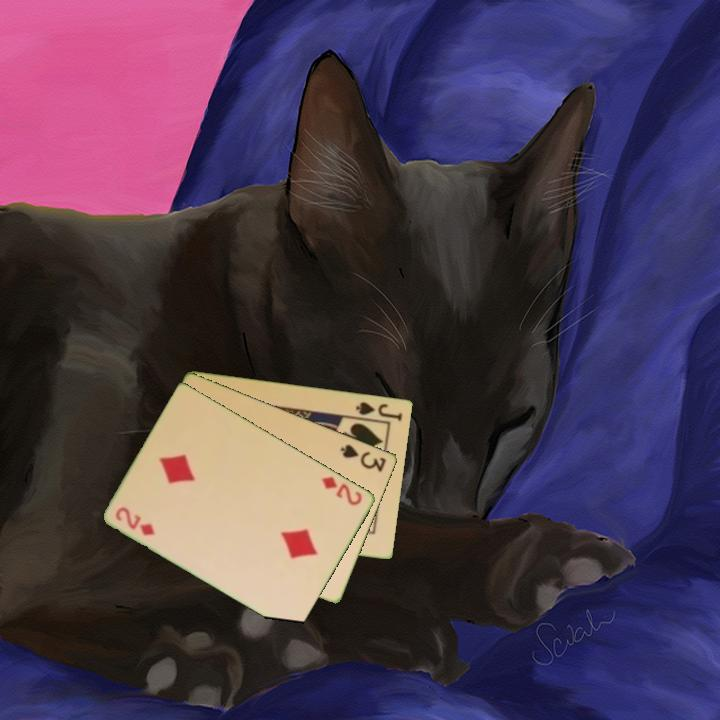2d: (318, 472, 365, 508), (112, 503, 159, 539)
3s: (337, 440, 389, 475)
Js: (353, 398, 405, 424)
